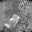people: (10, 14, 19, 25)
